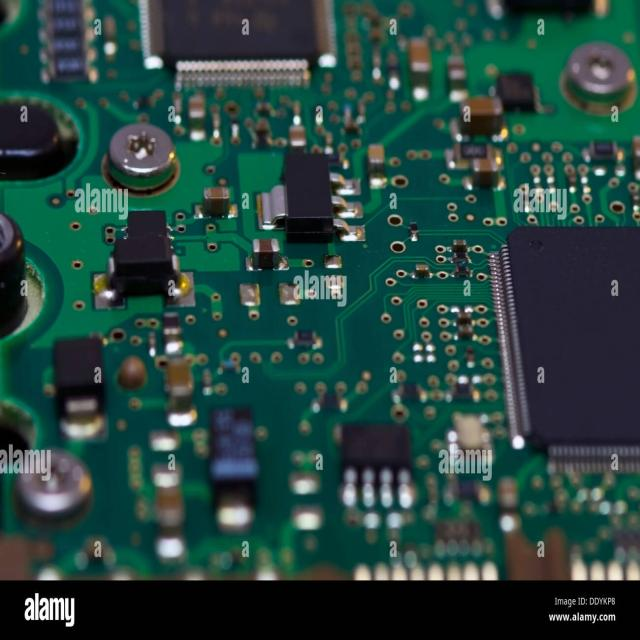pcb: (1, 0, 638, 582)
